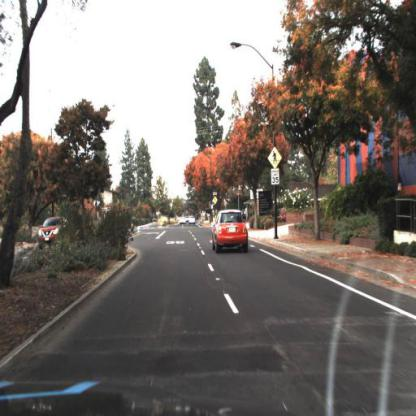car: (212, 210, 249, 251), (38, 217, 71, 250)
